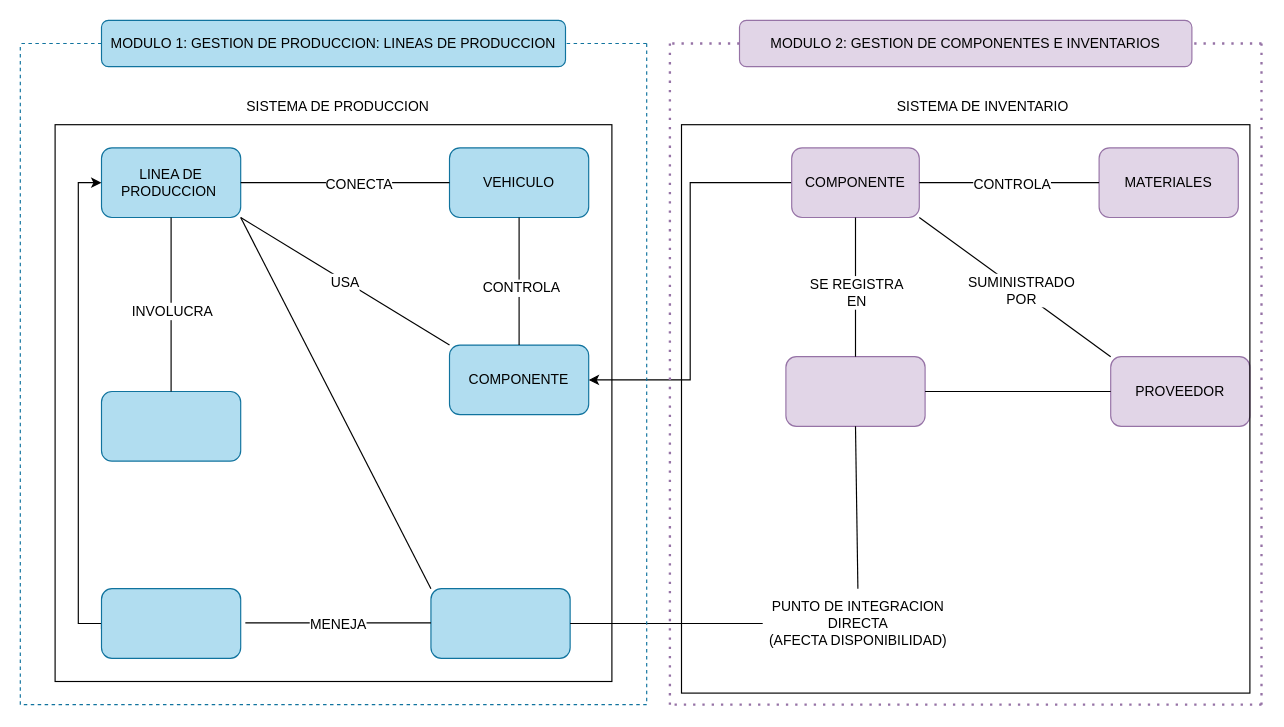
Some shapes in this 1284 by 727 pixel diagram are drawn without their labels. Each missing label, with the centre of its shape:
"EMPLEADO" belongs at (x=170, y=425).
"ENSAMBLAJE" belongs at (x=170, y=623).
"INVENTARIO" belongs at (x=855, y=391).
"ORDEN DE PRODUCCION" belongs at (x=500, y=623).
